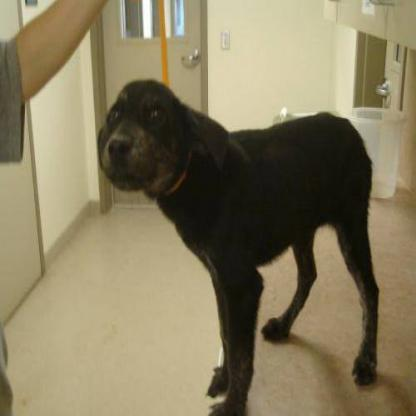dog: (99, 50, 361, 372)
